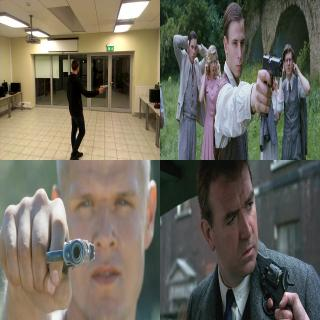gun: (252, 248, 293, 312), (42, 234, 96, 276), (262, 51, 282, 101), (98, 84, 108, 95)
